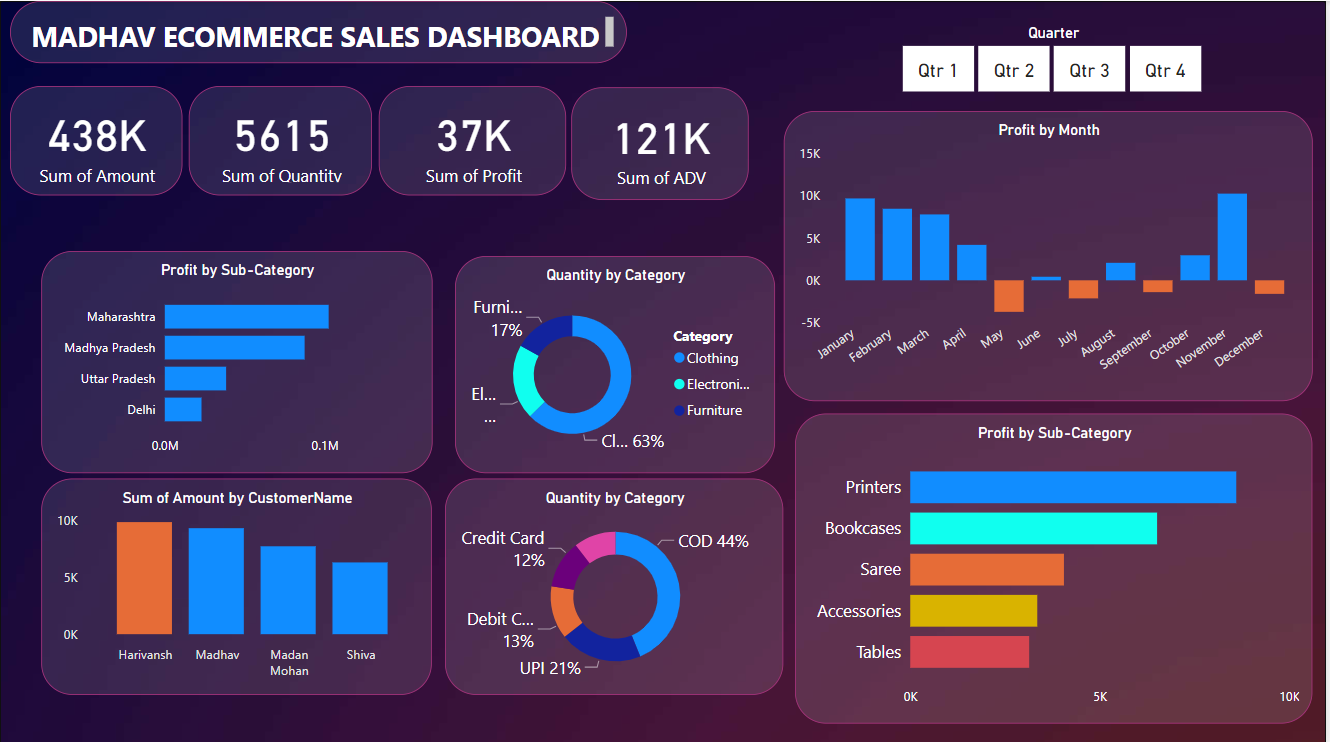

Layout of this report page (visuals, bound fields, positions):
{"tool":"powerbi","page":{"name":"Page 1","canvas":[1280,720],"ordinal":0},"visuals":[{"type":"textbox","box":[9.6,0,595.5,60.4],"z":0},{"type":"columnChart","title":"Profit by Month","fields":{"Category":["Orders.Order Date.Variation.Date Hierarchy.Month"],"Y":["Details.Profit"]},"box":[756.1,105.7,510.5,279.9],"z":1000},{"type":"barChart","title":"Profit by Sub-Category","fields":{"Category":["Details.Sub-Category"],"Y":["Details.Profit"]},"box":[767.1,397.9,499.5,299.1],"z":2000},{"type":"donutChart","title":"Quantity by Category","fields":{"Category":["Details.Category"],"Y":["Details.Quantity"]},"box":[439.1,245.6,308.7,209.9],"z":3000},{"type":"donutChart","title":"Quantity by Category","fields":{"Y":["Details.Quantity"],"Category":["Details.PaymentMode"]},"box":[429.5,461.1,326.6,208.6],"z":4000},{"type":"card","fields":{"Values":["Details.Amount"]},"box":[9.6,82.3,166,105.7],"z":5000},{"type":"card","fields":{"Values":["Details.Quantity"]},"box":[182.5,82.3,177,105.7],"z":6000},{"type":"card","fields":{"Values":["Details.Profit"]},"box":[365,82.3,181.1,105.7],"z":7000},{"type":"card","fields":{"Values":["Details.ADV"]},"box":[551.6,83.7,171.5,108.4],"z":8000},{"type":"barChart","title":"Profit by Sub-Category","fields":{"Category":["Orders.State"],"Y":["Details.Amount"]},"box":[39.8,241.5,377.4,214.1],"z":9000},{"type":"columnChart","fields":{"Category":["Orders.CustomerName"],"Y":["Details.Amount"]},"box":[40,461,377,209],"z":10000},{"type":"advancedSlicerVisual","fields":{"Values":["Orders.Order Date.Variation.Date Hierarchy.Quarter"]},"box":[847.2,21.5,337.6,166.8],"z":11000}]}

Visuals, with their boxes in screenshot pixels (x1, y1, x2, y2), scaled from the page's 1280x720 canvas onto the 1330x742 screenshot:
textbox: [x1=10, y1=0, x2=629, y2=62]
"Profit by Month" columnChart: [x1=786, y1=109, x2=1316, y2=397]
"Profit by Sub-Category" barChart: [x1=797, y1=410, x2=1316, y2=718]
"Quantity by Category" donutChart: [x1=456, y1=253, x2=777, y2=469]
"Quantity by Category" donutChart: [x1=446, y1=475, x2=786, y2=690]
card - Details.Amount: [x1=10, y1=85, x2=182, y2=194]
card - Details.Quantity: [x1=190, y1=85, x2=374, y2=194]
card - Details.Profit: [x1=379, y1=85, x2=567, y2=194]
card - Details.ADV: [x1=573, y1=86, x2=751, y2=198]
"Profit by Sub-Category" barChart: [x1=41, y1=249, x2=433, y2=470]
columnChart - Orders.CustomerName x Details.Amount: [x1=42, y1=475, x2=433, y2=690]
advancedSlicerVisual - Orders.Order Date.Variation.Date Hierarchy.Quarter: [x1=880, y1=22, x2=1231, y2=194]
